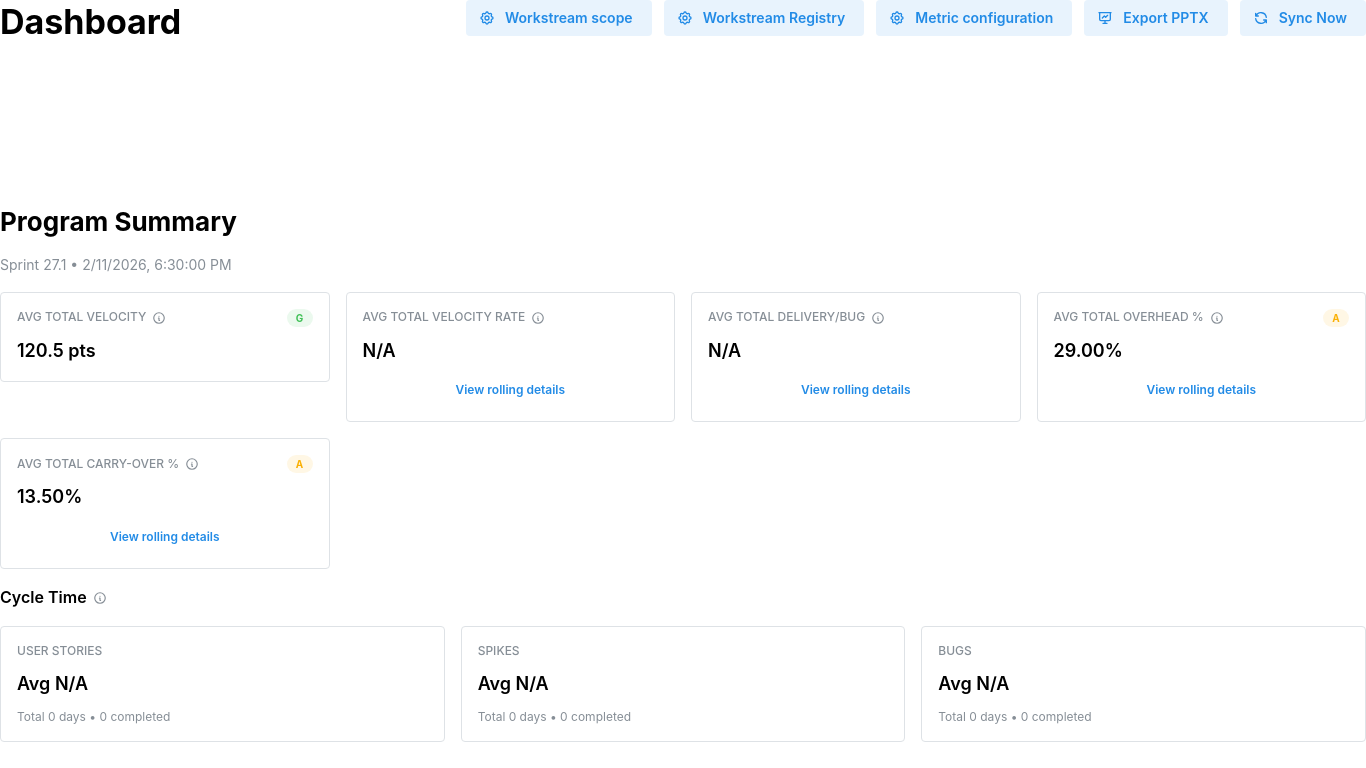
Test: DashboardContainer › opens metric configuration from the dashboard header
Step 1. Click the button "Metric configuration" → (974, 18), box [876,0,1072,36]
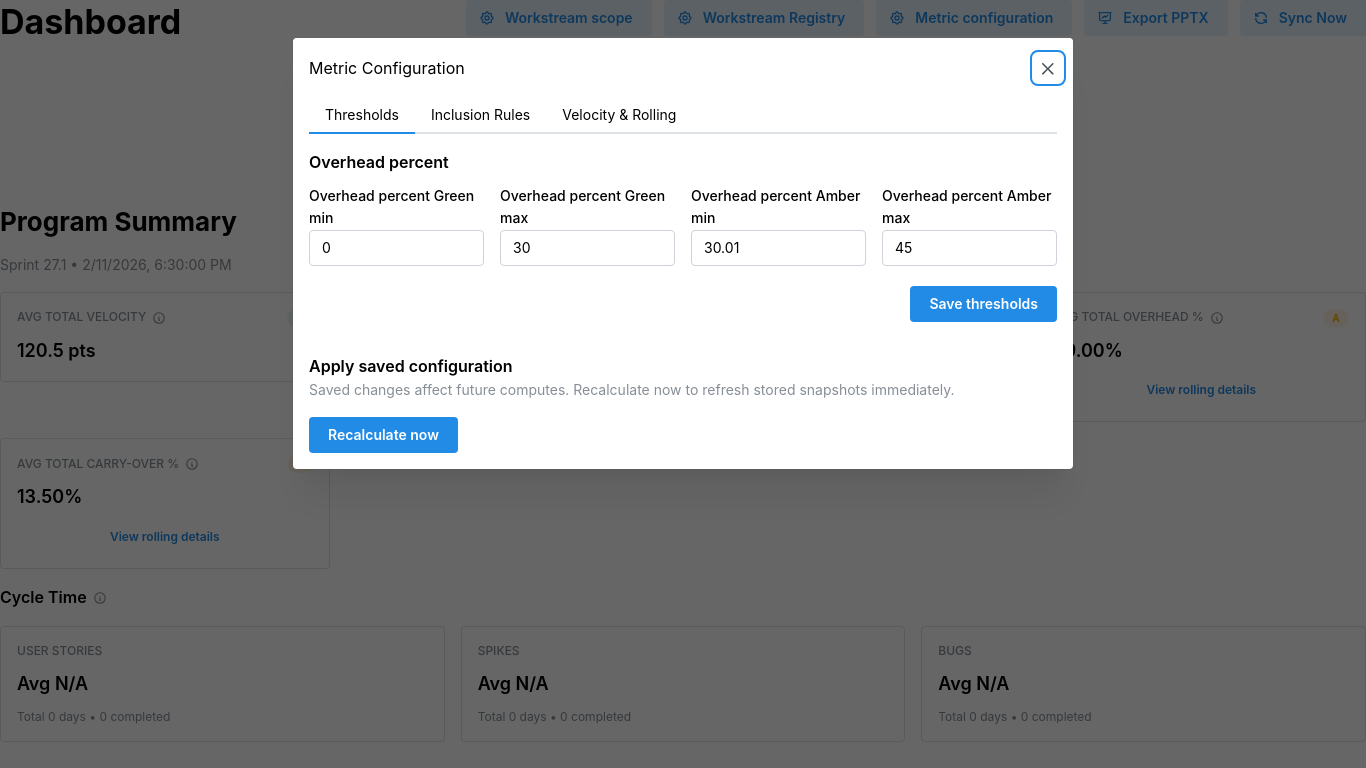
Expected: the heading "Metric Configuration" is shown, [309,60,465,76]
Expected: the text "Overhead percent" is shown, [309,152,449,172]
